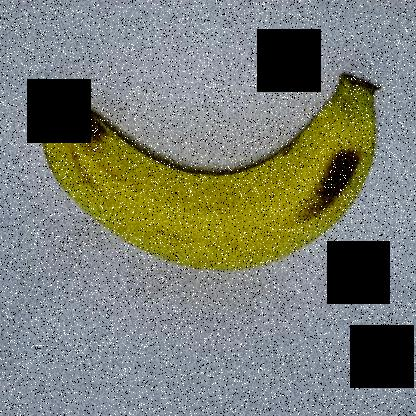freshripe: (31, 38, 390, 288)
